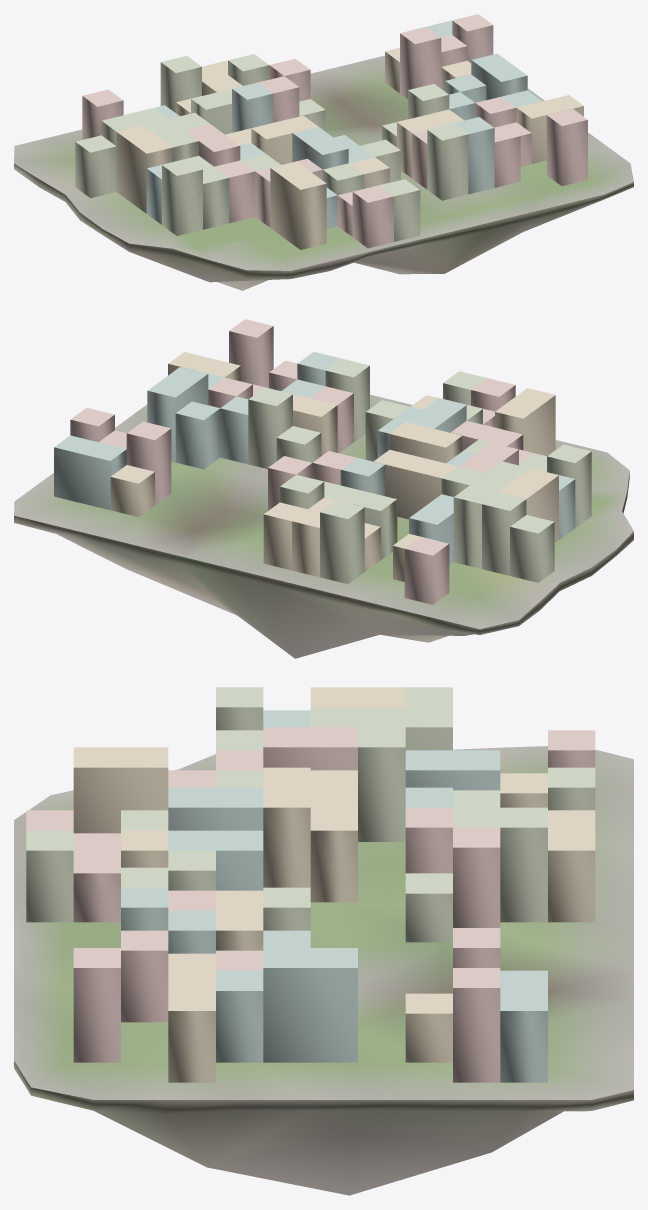
The model's file is SKY-014.lod1.glb.
3 views of the same model, one above another, from view 1: azimuth 30°, elevation 25°; view 2: azimuth 150°, elevation 25°; view 3: azimuth 270°, elevation 25° (orthographic). The views are drawn at different scales.
Visible parts, largest first — view 1: warren_hull, deck, rock; view 2: warren_hull, deck, rock; view 3: warren_hull, deck, rock.
Boxes of the visible parts, box(x1,y1,x2,y2) form: warren_hull: box(75, 14, 587, 249); deck: box(14, 55, 633, 270); rock: box(14, 164, 633, 290); warren_hull: box(54, 319, 591, 604); deck: box(14, 394, 633, 629); rock: box(14, 471, 633, 658); warren_hull: box(26, 687, 595, 1082); deck: box(14, 746, 633, 1099); rock: box(14, 1061, 633, 1195).
Bounding box in the file's own units: 106 × 42.58 × 78.44.
